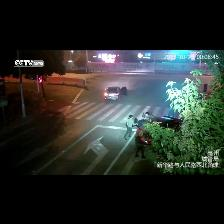person: (124, 115, 137, 140)
